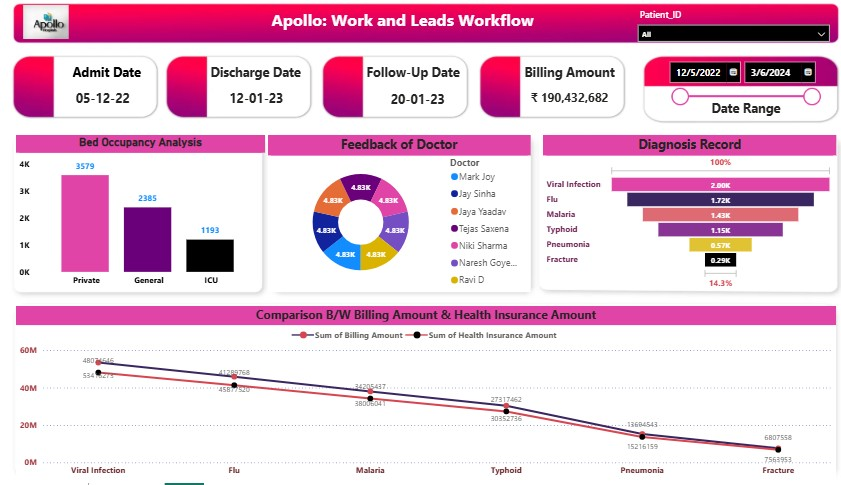

What the dashboard file says about the page in this screenshot:
{"tool":"powerbi","page":{"name":"Page 1","canvas":[1280,720],"ordinal":0},"visuals":[{"type":"image","box":[39.1,17.9,84.9,50.2],"z":0},{"type":"textbox","box":[408.7,17.9,399.8,55.8],"z":1000},{"type":"slicer","fields":{"Values":["Apollo Health-Care.Patient_ID"]},"box":[942.1,17.3,301.5,56.3],"z":2000},{"type":"cardVisual","fields":{"Data":["Min(Apollo Health-Care.Admit_Date)"]},"box":[96.9,122.7,145.4,61.9],"z":3000},{"type":"textbox","box":[115.5,99,137.1,46.4],"z":4000},{"type":"cardVisual","fields":{"Data":["Min(Apollo Health-Care.Discharge_Date)"]},"box":[319.6,122.7,145.4,61.9],"z":5000},{"type":"textbox","box":[319.6,99,168,44.3],"z":6000},{"type":"cardVisual","fields":{"Data":["Min(Apollo Health-Care.Followup Date)"]},"box":[559.8,125.8,144.3,54.6],"z":7000},{"type":"textbox","box":[547.4,99,168,44.3],"z":8000},{"type":"textbox","box":[780.4,97.9,147.4,45.4],"z":9000},{"type":"slicer","fields":{"Values":["Apollo Health-Care.Admit_Date"]},"box":[985.6,90.7,243.3,93.8],"z":10000},{"type":"textbox","box":[1054.6,151.5,120.6,41.2],"z":11000},{"type":"clusteredColumnChart","title":"Bed Occupancy Analysis","fields":{"Category":["Apollo Health-Care.Bed_Occupancy"],"Y":["CountNonNull(Apollo Health-Care.Bed_Occupancy)"]},"box":[38.9,208.9,365.6,231.1],"z":12000},{"type":"cardVisual","fields":{"Data":["Sum(Apollo Health-Care.Billing Amount)"]},"box":[765.5,118.2,178.2,69.1],"z":13000},{"type":"donutChart","title":"Feedback of Doctor","fields":{"Category":["Apollo Health-Care.Doctor"],"Y":["Sum(Apollo Health-Care.Feedback)"]},"box":[408.9,208.9,385.6,231.1],"z":13001},{"type":"funnel","title":"Diagnosis Record","fields":{"Category":["Apollo Health-Care.Diagnosis"],"Y":["CountNonNull(Apollo Health-Care.Diagnosis)"]},"box":[812.7,209.1,430.9,230.9],"z":13002},{"type":"lineChart","title":"Comparison B/W Billing Amount & Health Insurance Amount","fields":{"Category":["Apollo Health-Care.Diagnosis"],"Y":["Sum(Apollo Health-Care.Billing Amount)","Sum(Apollo Health-Care.Health Insurance Amount)"]},"box":[38.8,460,1205,260],"z":13003}]}

Visuals, with their boxes in screenshot pixels (x1, y1, x2, y2), scaled from the page's 1280x720 canvas onto the 841x485 screenshot:
image: locate(26, 12, 81, 46)
textbox: locate(269, 12, 531, 50)
slicer - Apollo Health-Care.Patient_ID: locate(619, 12, 817, 50)
cardVisual - Min(Apollo Health-Care.Admit_Date): locate(64, 83, 159, 124)
textbox: locate(76, 67, 166, 98)
cardVisual - Min(Apollo Health-Care.Discharge_Date): locate(210, 83, 306, 124)
textbox: locate(210, 67, 320, 97)
cardVisual - Min(Apollo Health-Care.Followup Date): locate(368, 85, 463, 122)
textbox: locate(360, 67, 470, 97)
textbox: locate(513, 66, 610, 97)
slicer - Apollo Health-Care.Admit_Date: locate(648, 61, 807, 124)
textbox: locate(693, 102, 772, 130)
"Bed Occupancy Analysis" clusteredColumnChart: locate(26, 141, 266, 296)
cardVisual - Sum(Apollo Health-Care.Billing Amount): locate(503, 80, 620, 126)
"Feedback of Doctor" donutChart: locate(269, 141, 522, 296)
"Diagnosis Record" funnel: locate(534, 141, 817, 296)
"Comparison B/W Billing Amount & Health Insurance Amount" lineChart: locate(25, 310, 817, 484)
